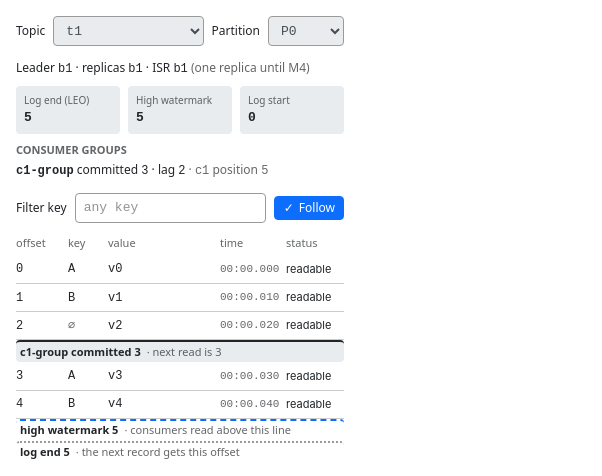
it: <PartitionLog> › the picker switches partitions
Step 1. Select "P1" in the dropdown labelled "Partition" → (306, 31), box [268,16,344,46]
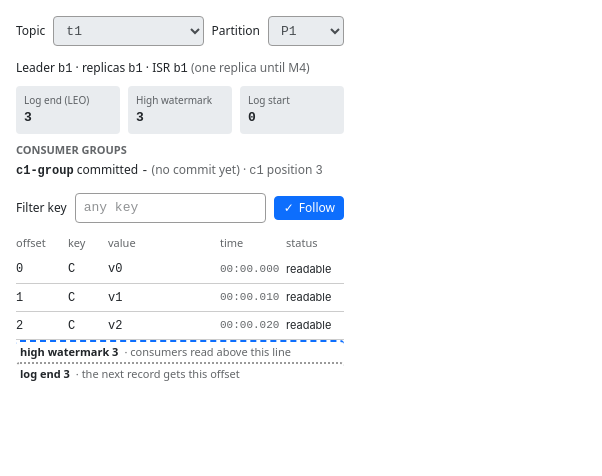
Check: the element named "Records of t1-1" is shown, box [15,235,586,384]
